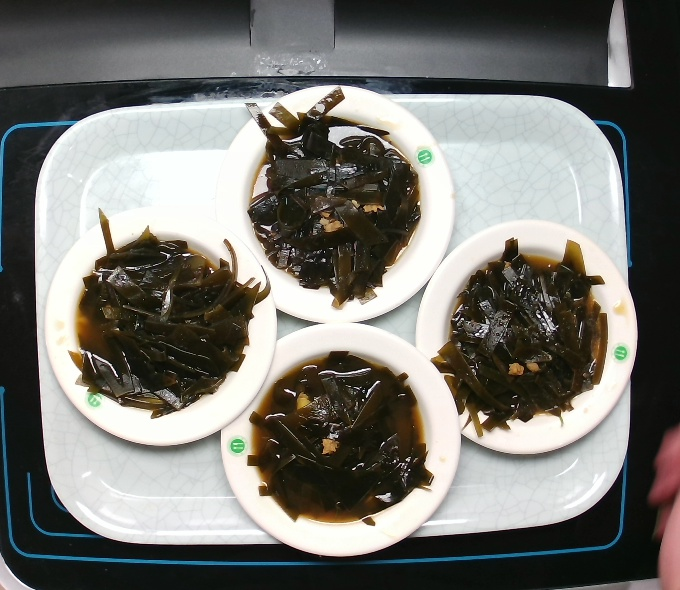wcq-HaiDai: (249, 102, 432, 307), (77, 233, 259, 415), (251, 351, 433, 526), (440, 259, 613, 435)
